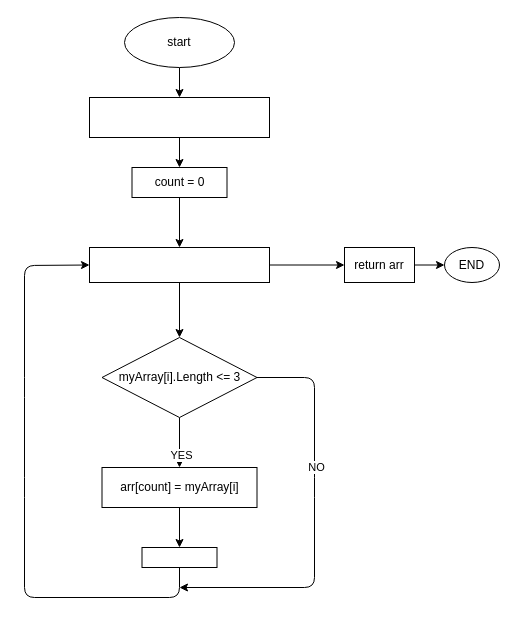
This 517x623 diagram has some shape labels left out. The shapes that lost their labels are listed below. From the top down, each one's box as (x1, y1, x2, y2) in pixels, then its label:
(88, 96, 270, 138): string[] arr = new string[elementCount]
(88, 246, 270, 282): i = 0; i < myArray.Length; i++
(141, 546, 217, 568): count++
